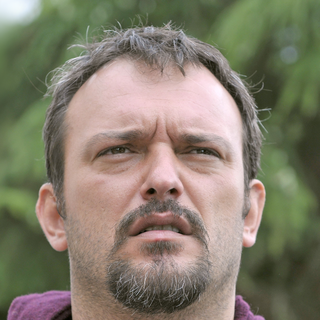eye: (91, 135, 145, 168), (173, 136, 228, 166)
